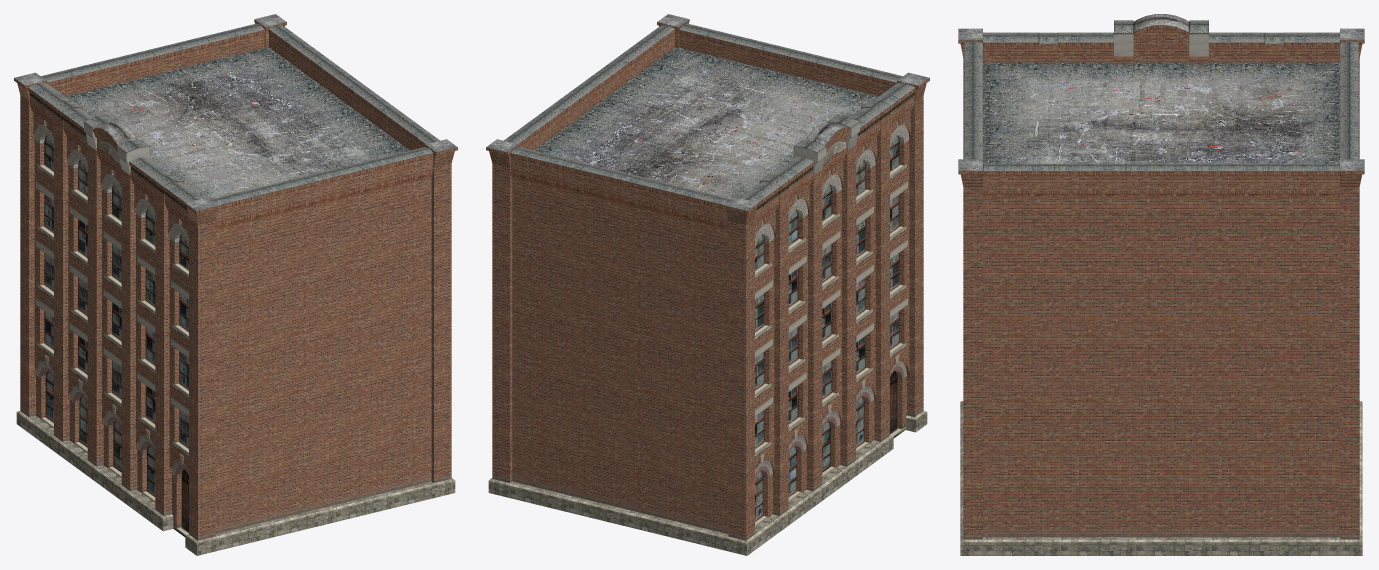
The model's file is IndustrialBuilding_fbx.FBX.
The picture shows the model from 3 angles, left to right: view 1: azimuth 30°, elevation 25°; view 2: azimuth 150°, elevation 25°; view 3: azimuth 270°, elevation 25°; orthographic projection. The views are drawn at different scales.
Visible parts, largest first — view 1: ready; view 2: ready; view 3: ready.
Boxes of the visible parts, <box> form: ready: <box>14,14,457,555</box>; ready: <box>486,14,929,555</box>; ready: <box>958,14,1364,555</box>.
Bounding box in the file's own units: 12.96 × 15.63 × 17.09.
